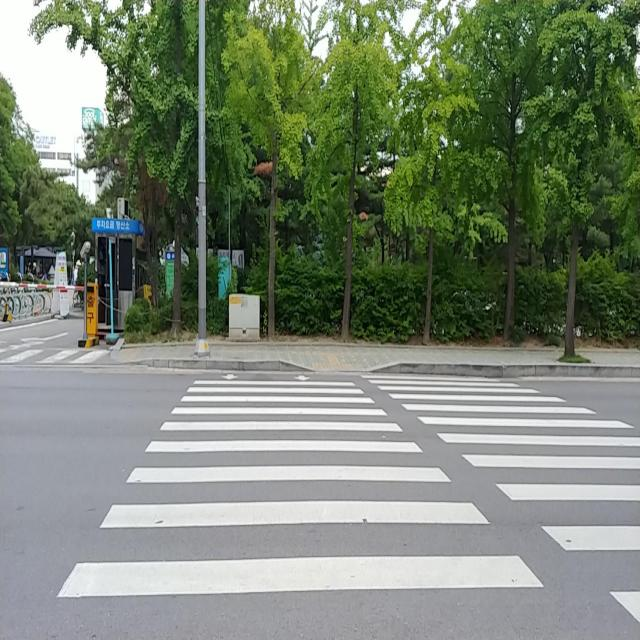횡단보도: (53, 366, 640, 640), (0, 344, 114, 370)
